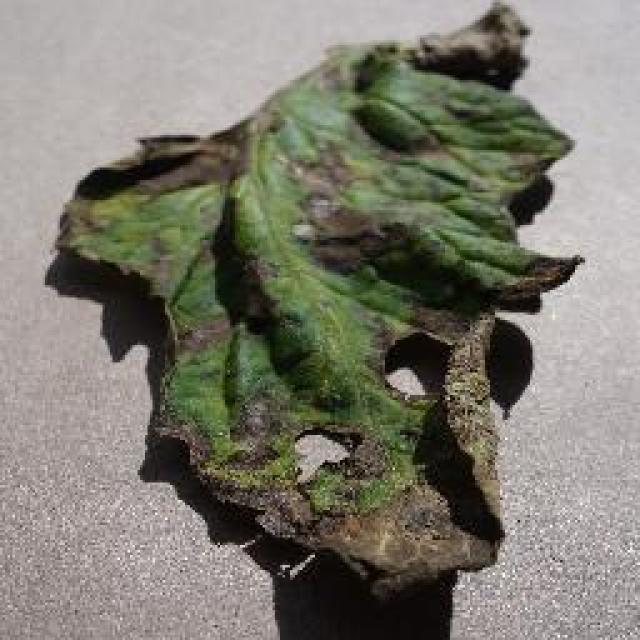Tomato___Early_blight: (49, 0, 587, 600)
